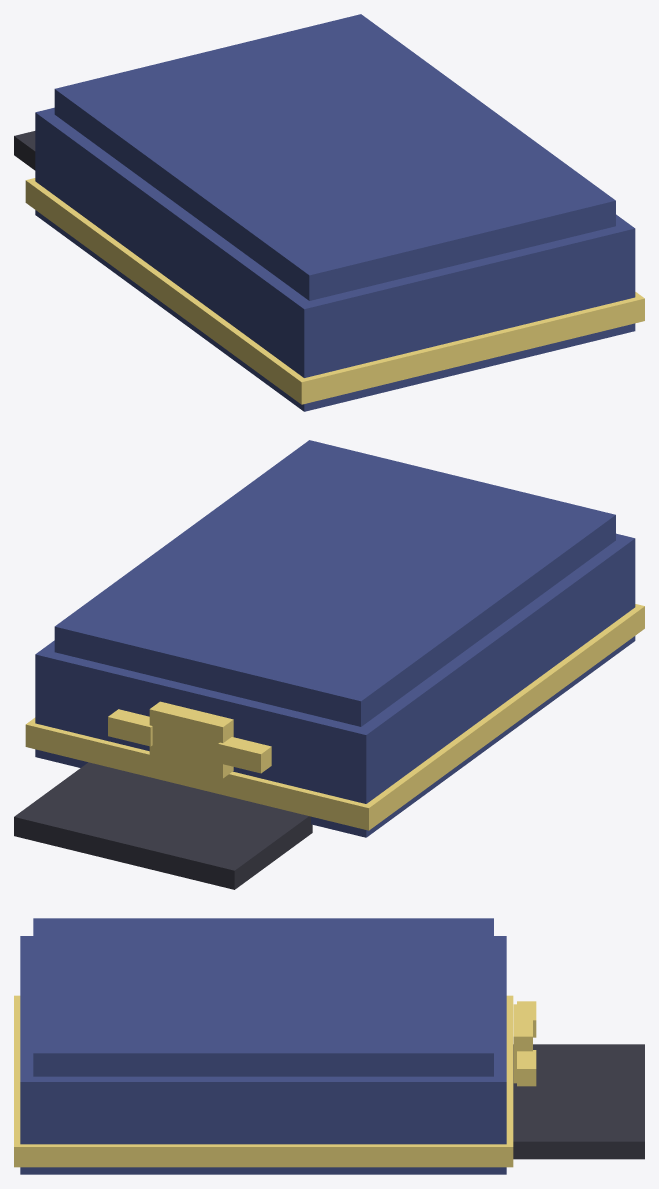
The model's file is quepe_piloto.glb.
The picture shows the model from 3 angles, top to bottom: view 1: azimuth 30°, elevation 25°; view 2: azimuth 150°, elevation 25°; view 3: azimuth 270°, elevation 25°; orthographic projection. The views are drawn at different scales.
Parts seen in each view (by area): view 1: quepe_piloto; view 2: quepe_piloto; view 3: quepe_piloto.
Part boxes in pixels (<box>): quepe_piloto: <box>14,14,644,411</box>; quepe_piloto: <box>14,440,644,889</box>; quepe_piloto: <box>14,918,644,1174</box>.
Size of the model in its own units: 0.56 by 0.215 by 0.986.
